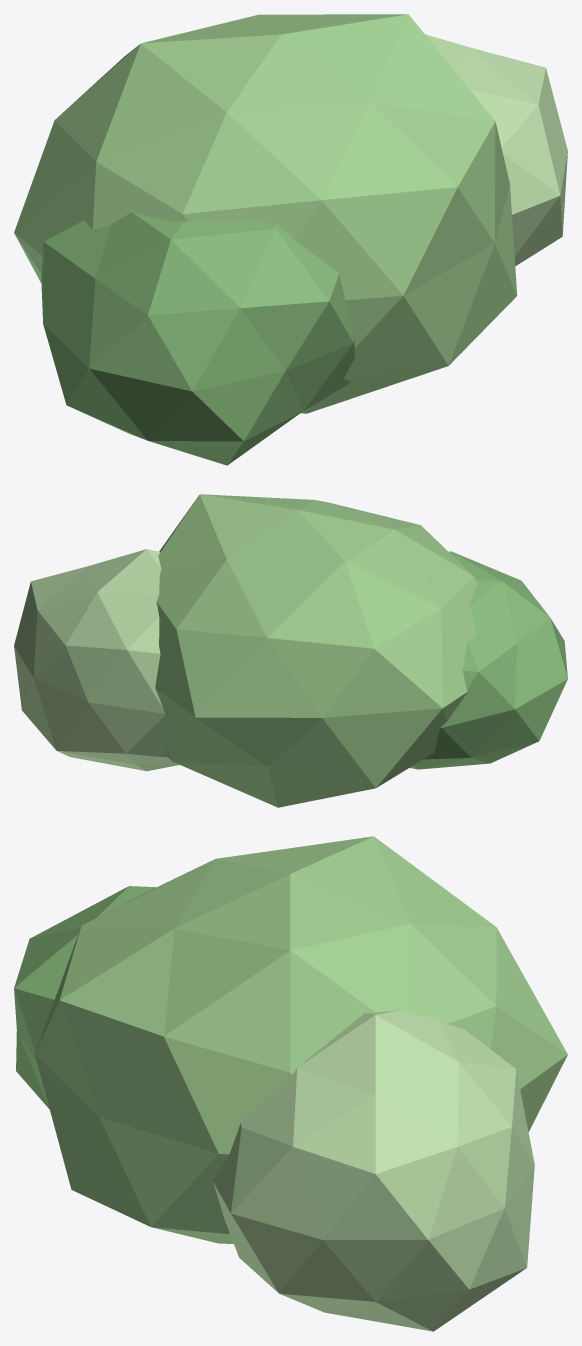
File: bush.glb
The picture shows the model from 3 angles, top to bottom: view 1: azimuth 30°, elevation 25°; view 2: azimuth 150°, elevation 25°; view 3: azimuth 270°, elevation 25°; orthographic projection. The views are drawn at different scales.
Visible parts, largest first — view 1: bush; view 2: bush; view 3: bush.
Boxes of the visible parts, x1,y1,x2,y2 form: bush: (14, 14, 567, 465); bush: (14, 494, 567, 807); bush: (14, 836, 567, 1331).
Size of the model in its own units: 2.05 by 1.18 by 1.63.
